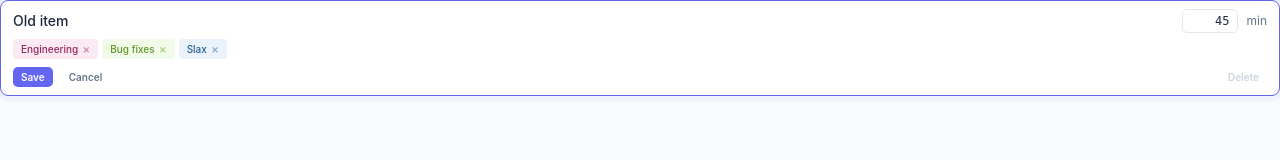
Test case: EntryRowEdit › Esc with unsaved changes shows the discard confirm bar and does NOT cancel
Replace the text in the 1st field with "Changed item": [594, 21] box [13,9,1174,33]
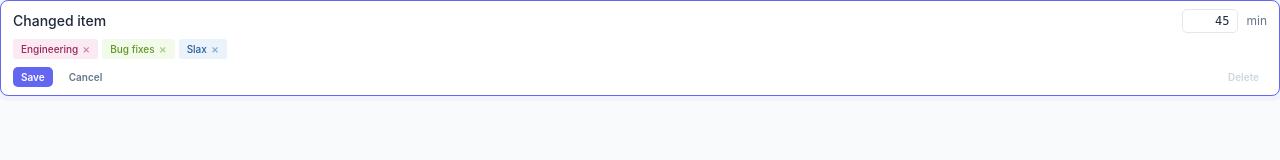
Press Escape in the element showing "min Engineering × Bug fixes × Slax × Save Cancel Delete"
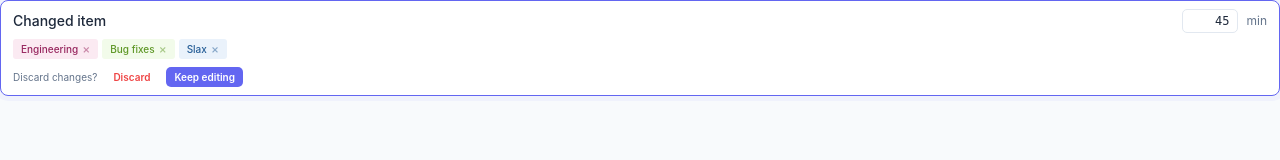
Expected: the text "Discard changes?" is shown, [13,69,97,85]
